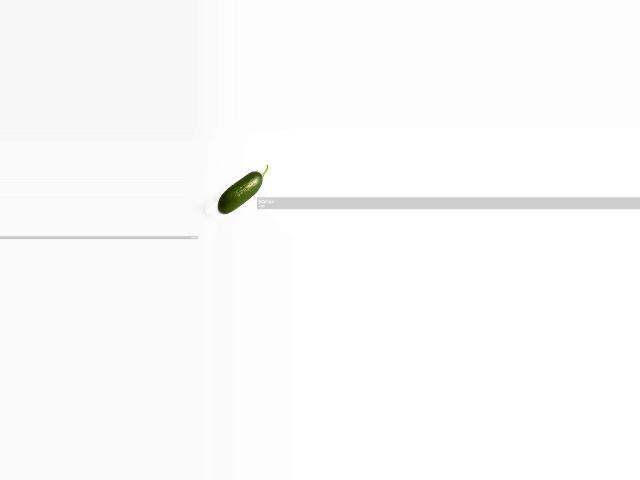cucumber: (218, 165, 269, 214)
